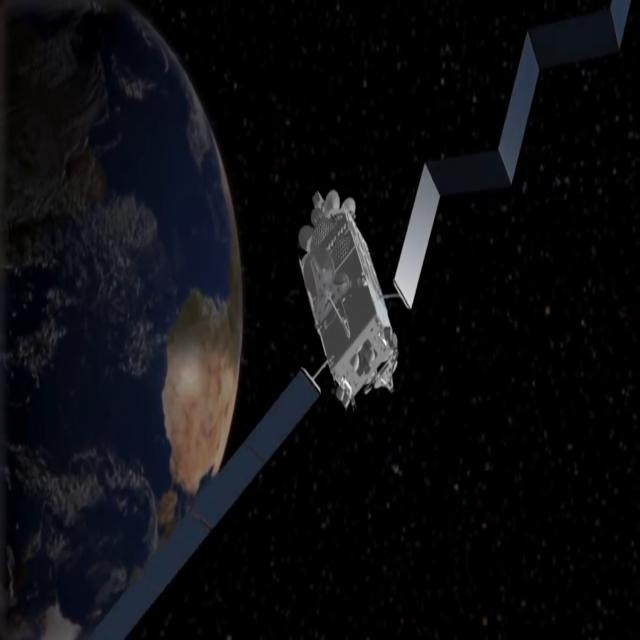large_debris: (496, 19, 548, 198), (608, 0, 640, 47)
satellite: (43, 155, 445, 640)
